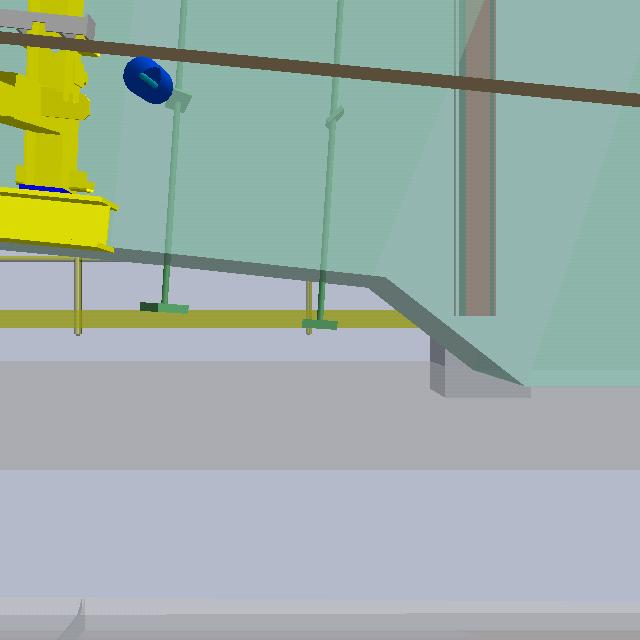Poste: (140, 1, 204, 339), (297, 1, 356, 329)
